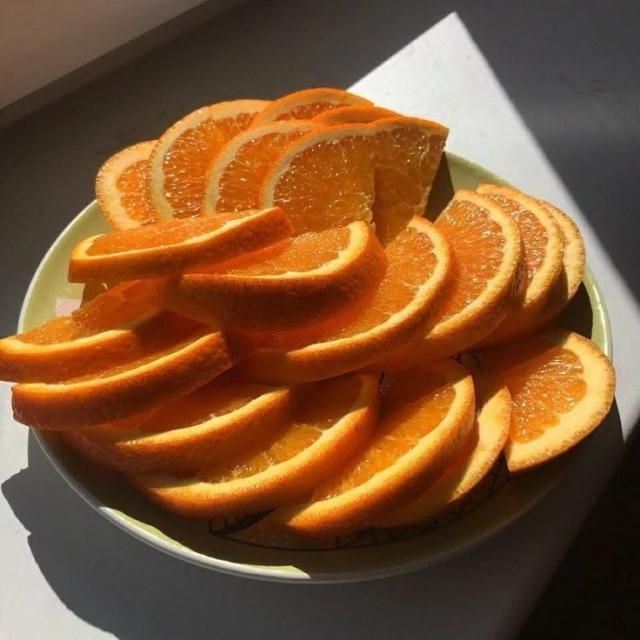orange: (132, 375, 379, 517), (274, 360, 473, 536), (240, 218, 451, 382), (380, 190, 522, 368), (13, 317, 234, 430), (165, 222, 386, 330), (261, 117, 447, 244), (64, 373, 292, 473), (376, 371, 511, 526), (478, 330, 615, 471), (0, 281, 166, 382), (69, 208, 292, 281), (148, 100, 269, 219), (478, 185, 563, 344), (261, 125, 375, 233), (203, 120, 319, 214), (371, 116, 447, 245), (533, 201, 585, 328), (96, 141, 157, 229), (254, 88, 372, 126), (313, 107, 398, 125)
